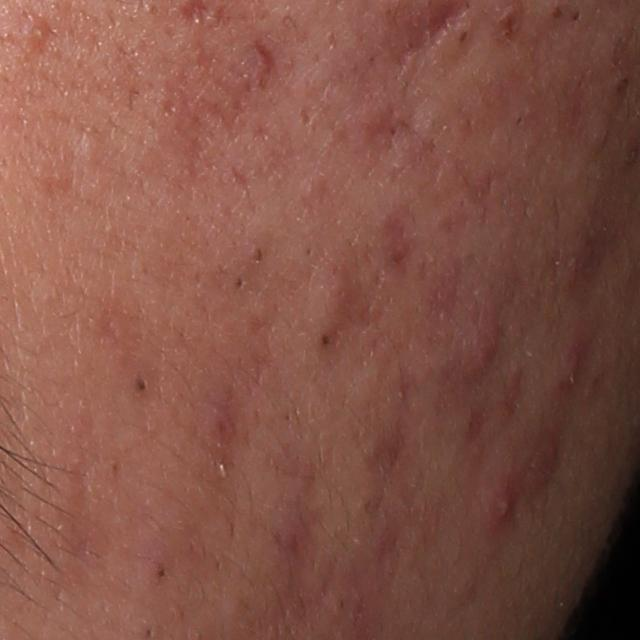atrophic_scar: (570, 206, 623, 306), (371, 101, 427, 159), (247, 34, 276, 79)
comedo: (132, 374, 152, 394), (456, 27, 472, 51), (232, 273, 247, 292), (152, 564, 167, 583), (314, 332, 331, 348), (252, 246, 266, 263), (548, 5, 562, 22), (569, 9, 583, 24)
papule: (465, 306, 503, 377), (487, 479, 521, 522), (18, 15, 53, 51), (562, 333, 587, 381)
